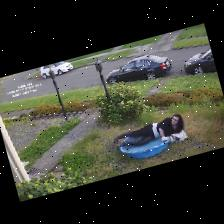person: (112, 114, 183, 150)
